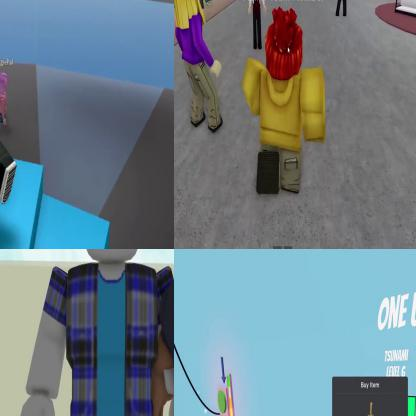Roblox-Avatar: (20, 250, 174, 416), (243, 7, 327, 195), (175, 1, 224, 135), (1, 7, 18, 205), (248, 1, 268, 52), (1, 66, 11, 127), (333, 1, 354, 17)
